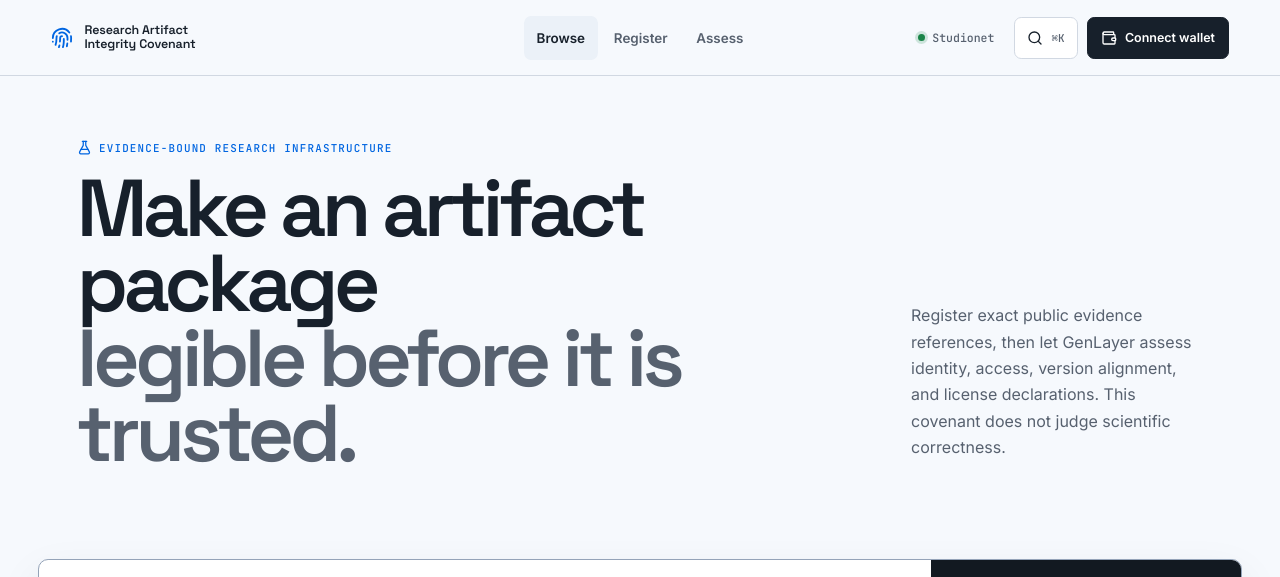
Test: register workflow: initial proposal creation vs successor proposal › routes a created successor to the independent approval workflow
This screenshot has width=1280, height=577.
Click the button "register" at (641, 38), box x1=601 y1=16 x2=680 y2=60
(page scrolled)
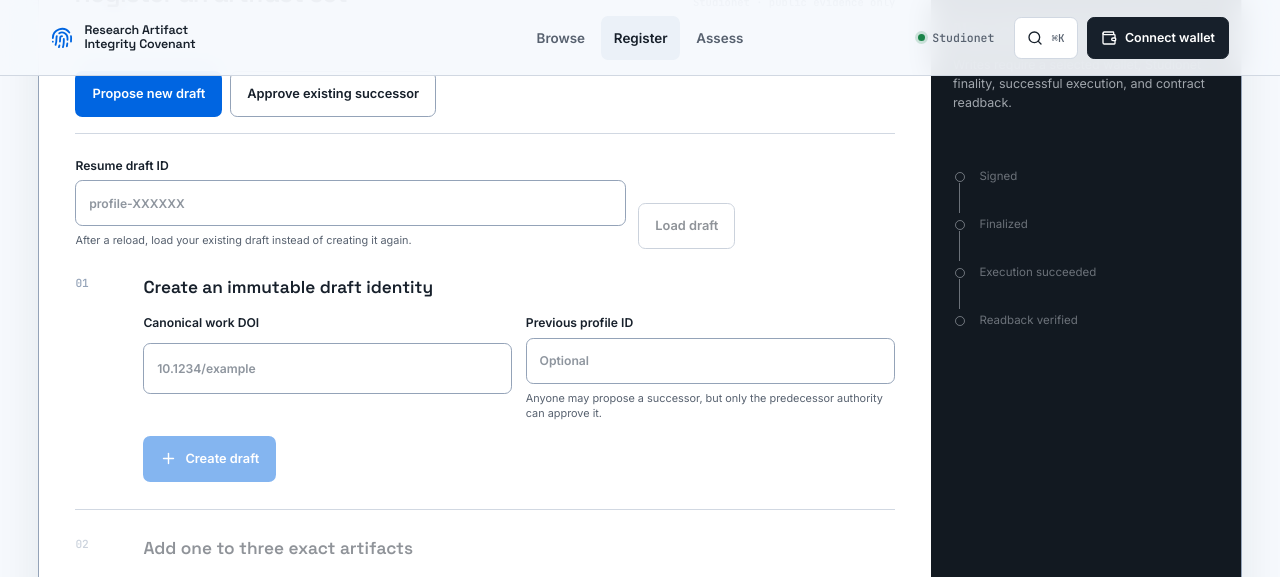
Type "profile-000001" into the field with placeholder "Optional" at (710, 360), box x1=526 y1=338 x2=895 y2=384
(page scrolled)
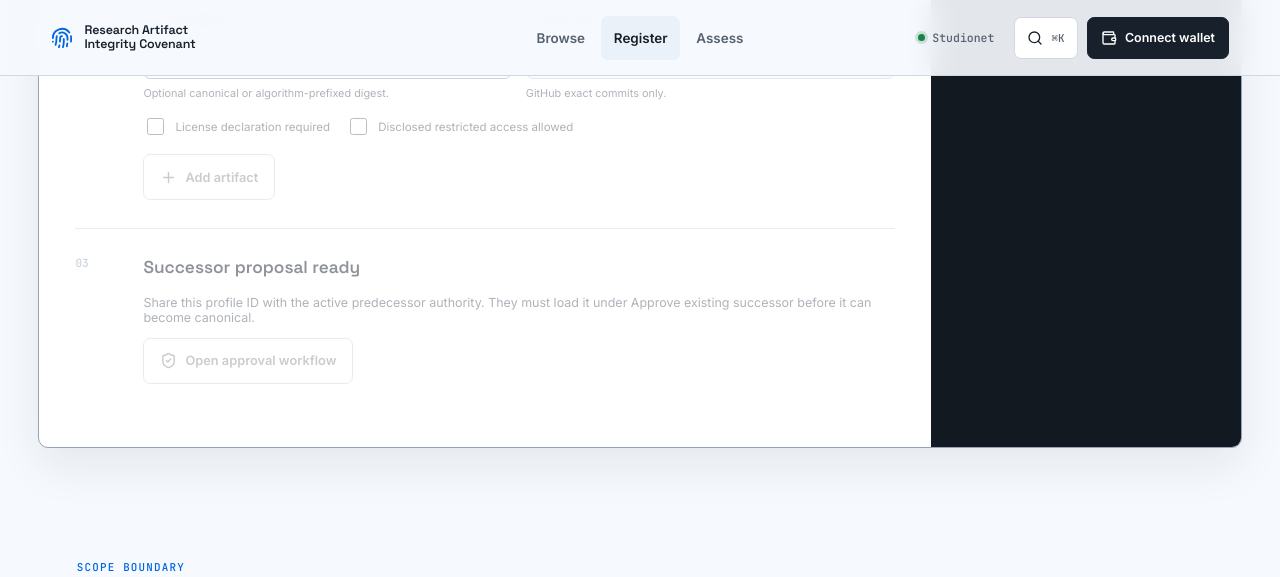
Now the button "Open approval workflow" is disabled, box x1=143 y1=338 x2=353 y2=384
Now the heading "Successor proposal ready" is shown, box x1=143 y1=256 x2=360 y2=278
Now the text "Share this profile ID with the active predecessor authority" is shown, box x1=143 y1=295 x2=871 y2=325
